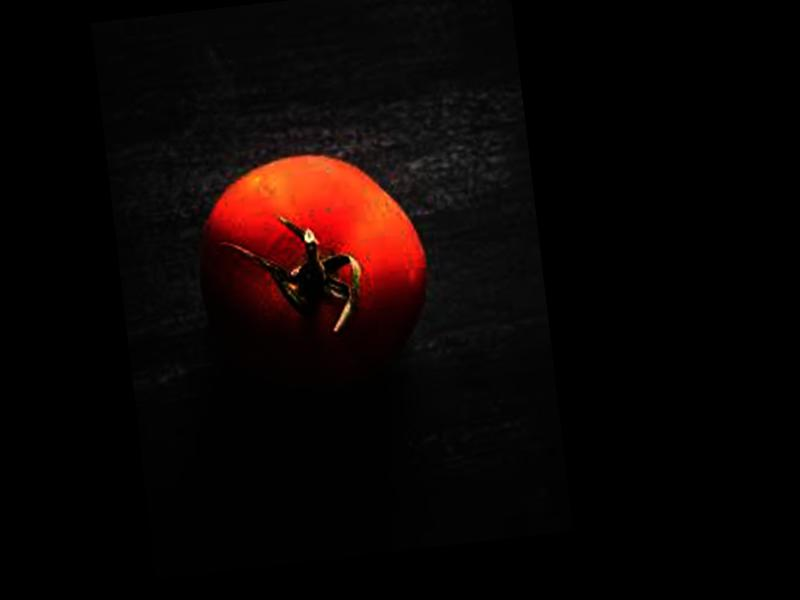Tomato: (190, 140, 439, 400)
